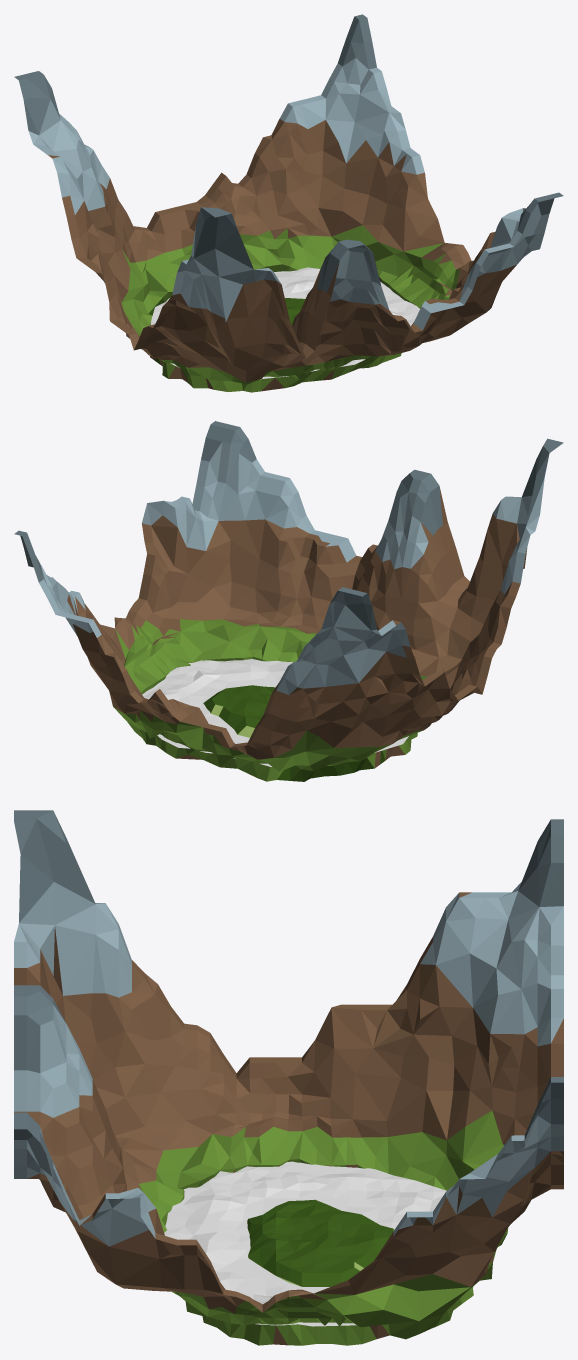
Rendered from MountainsNew.fbx.
3 renders of one model, top to bottom at view 1: azimuth 30°, elevation 25°; view 2: azimuth 150°, elevation 25°; view 3: azimuth 270°, elevation 25°, orthographic. The views are drawn at different scales.
Parts seen in each view (by area): view 1: Plane; view 2: Plane; view 3: Plane.
Part boxes in pixels (x1,y1,x2,y2): Plane: [14, 14, 563, 392]; Plane: [14, 421, 563, 781]; Plane: [14, 810, 563, 1345].
Bounding box in the file's own units: 1344 × 859 × 1265.
2 materials, 1 textured.
